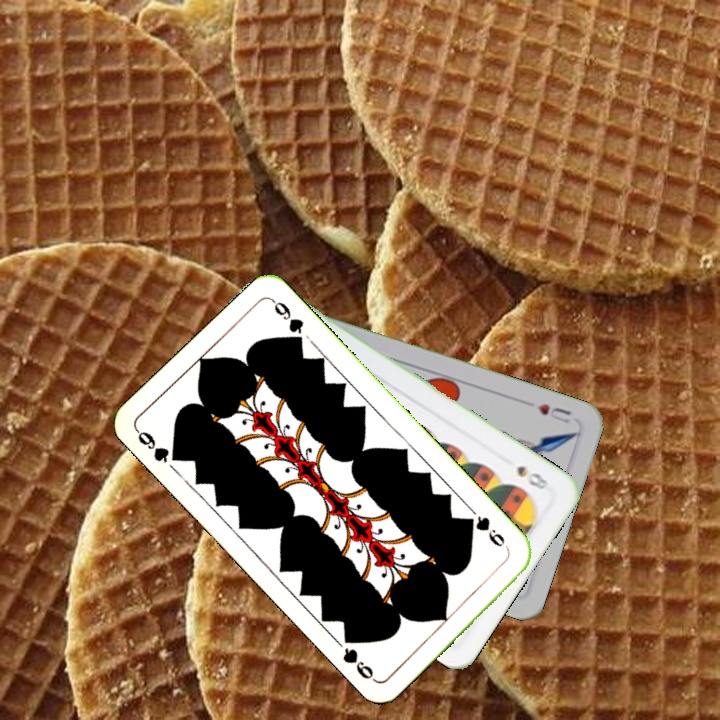G9: (462, 512, 513, 555), (132, 425, 185, 466)
HU: (533, 399, 574, 426)
S8: (512, 461, 556, 493)
